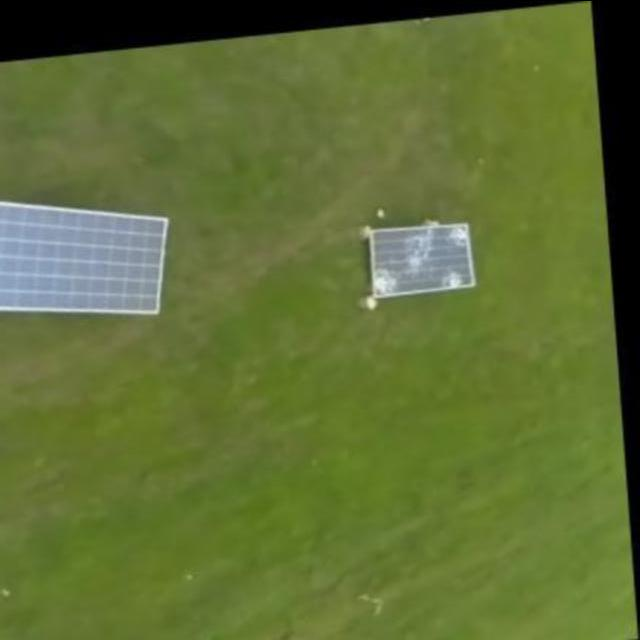cracked: (358, 220, 479, 300)
